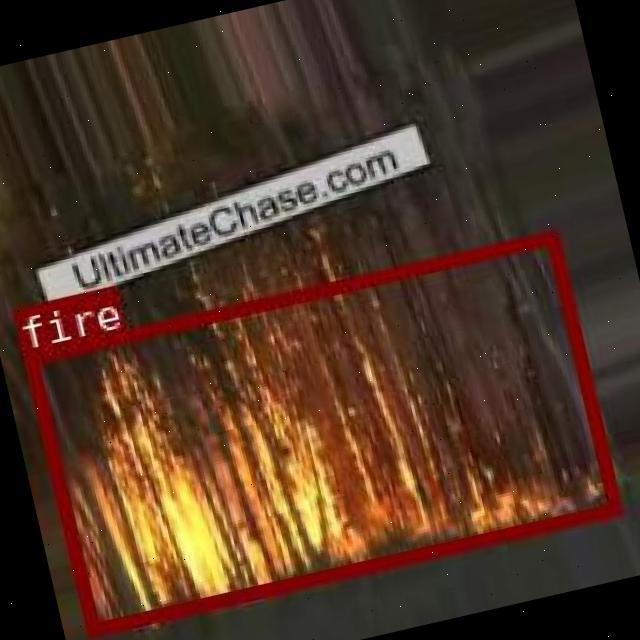fire: (19, 228, 618, 634)
